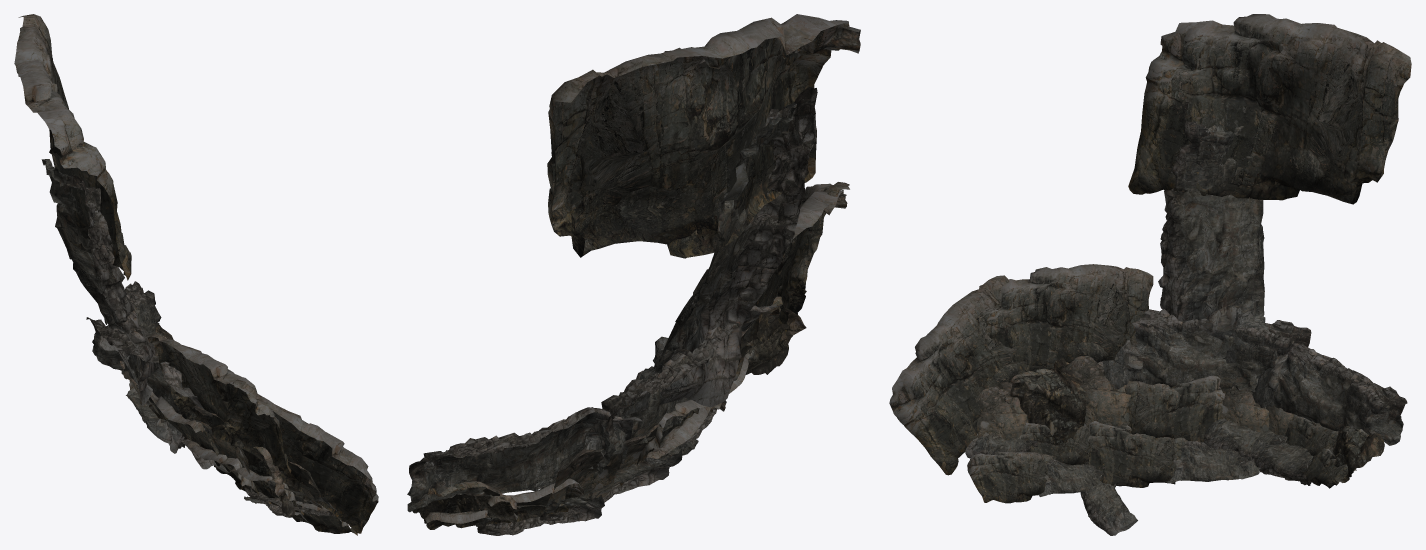
Rendered from Rocks test2.fbx.
3 renders of one model, left to right at view 1: azimuth 30°, elevation 25°; view 2: azimuth 150°, elevation 25°; view 3: azimuth 270°, elevation 25°, orthographic. The views are drawn at different scales.
Visible parts, largest first — view 1: Rock6.017; view 2: Rock6.017; view 3: Rock6.017.
Part boxes in pixels (x1=…): Rock6.017: x1=14, y1=14, x2=378, y2=535; Rock6.017: x1=407, y1=14, x2=860, y2=535; Rock6.017: x1=889, y1=14, x2=1411, y2=535.
Size of the model in its own units: 6971 by 12912 by 14223.
